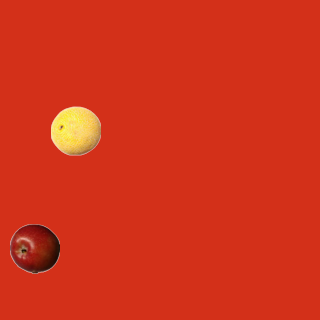Apple Braeburn: (9, 223, 59, 273)
Cantaloupe 1: (50, 105, 100, 155)
